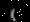person: (11, 9, 18, 22)
